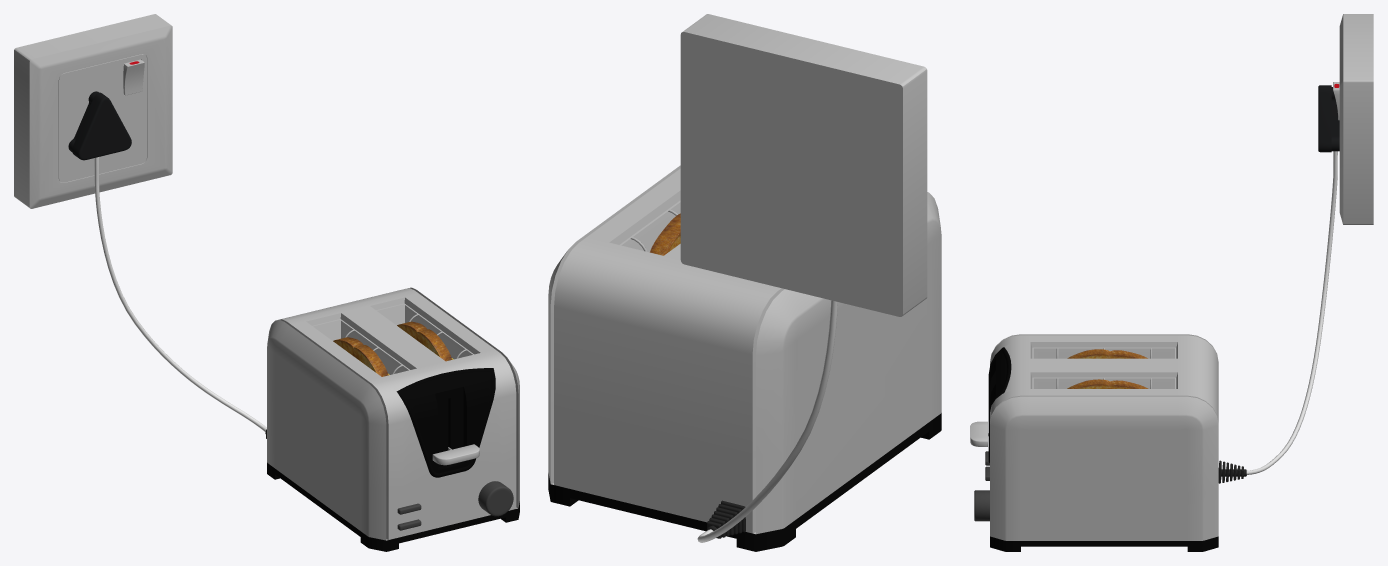
File: Briad.fbx
The picture shows the model from 3 angles, left to right: view 1: azimuth 30°, elevation 25°; view 2: azimuth 150°, elevation 25°; view 3: azimuth 270°, elevation 25°; orthographic projection. The views are drawn at different scales.
Visible parts, largest first — view 1: Cube.013_toaster_metal_1_0, Cube.009_plug_plastic_1_0, Cube.012_toaster_plastic_1_0, Plane.004_plug_plastic_3_0, Cube.016_toaster_inner_on_0, BezierCurve.007_cable_0, Cube.015_toaster_bread_0, Cube.011_toaster_metal_1b_0, Cube.015_toaster_metal_1_0; view 2: Cube.013_toaster_metal_1_0, Cube.009_plug_plastic_1_0, Cube.012_toaster_plastic_1_0, BezierCurve.007_cable_0, Cube.016_toaster_inner_on_0, BezierCurve.006_rubber_1_0, Cube.015_toaster_bread_0; view 3: Cube.013_toaster_metal_1_0, Cube.009_plug_plastic_1_0, Cube.012_toaster_plastic_1_0, Cube.016_toaster_inner_on_0, BezierCurve.007_cable_0, Plane.004_plug_plastic_3_0, Cube.015_toaster_bread_0, Cube.011_toaster_metal_1b_0.
Boxes of the visible parts, x1,y1,x2,y2 form: Cube.013_toaster_metal_1_0: (267,287,519,540); Cube.009_plug_plastic_1_0: (14,14,172,208); Cube.012_toaster_plastic_1_0: (267,368,519,551); Plane.004_plug_plastic_3_0: (68,91,131,160); Cube.016_toaster_inner_on_0: (313,304,472,374); BezierCurve.007_cable_0: (94,157,266,431); Cube.015_toaster_bread_0: (333,321,452,376); Cube.011_toaster_metal_1b_0: (397,481,513,530); Cube.015_toaster_metal_1_0: (432,444,479,465); Cube.013_toaster_metal_1_0: (548,165,941,534); Cube.009_plug_plastic_1_0: (680,14,927,316); Cube.012_toaster_plastic_1_0: (548,413,941,551); BezierCurve.007_cable_0: (697,300,837,542); Cube.016_toaster_inner_on_0: (621,202,680,252); BezierCurve.006_rubber_1_0: (706,500,745,538); Cube.015_toaster_bread_0: (650,213,680,255); Cube.013_toaster_metal_1_0: (990,334,1218,540); Cube.009_plug_plastic_1_0: (1333,14,1373,224); Cube.012_toaster_plastic_1_0: (988,347,1218,551); Cube.016_toaster_inner_on_0: (1033,348,1174,388); BezierCurve.007_cable_0: (1246,151,1337,474); Plane.004_plug_plastic_3_0: (1318,85,1339,152); Cube.015_toaster_bread_0: (1067,349,1148,388); Cube.011_toaster_metal_1b_0: (974,451,989,521).
Bounding box in the file's own units: 49520 × 60047 × 56408.
12 materials, 1 textured.
